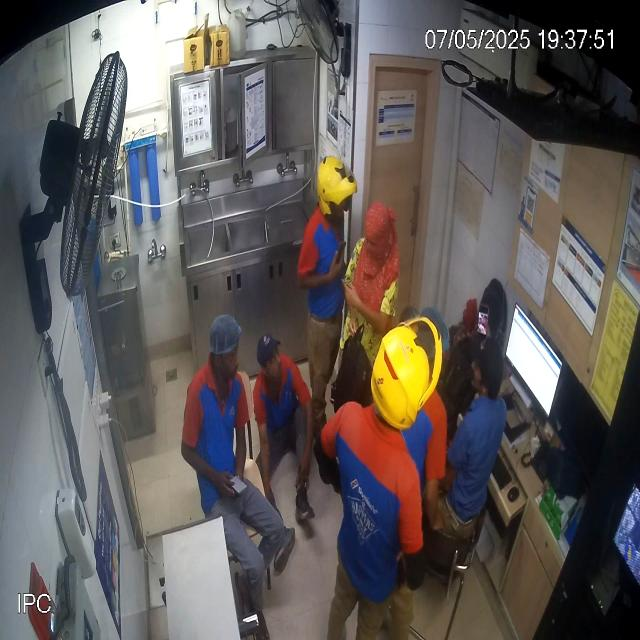helmet: (371, 315, 442, 429), (315, 157, 357, 222)
